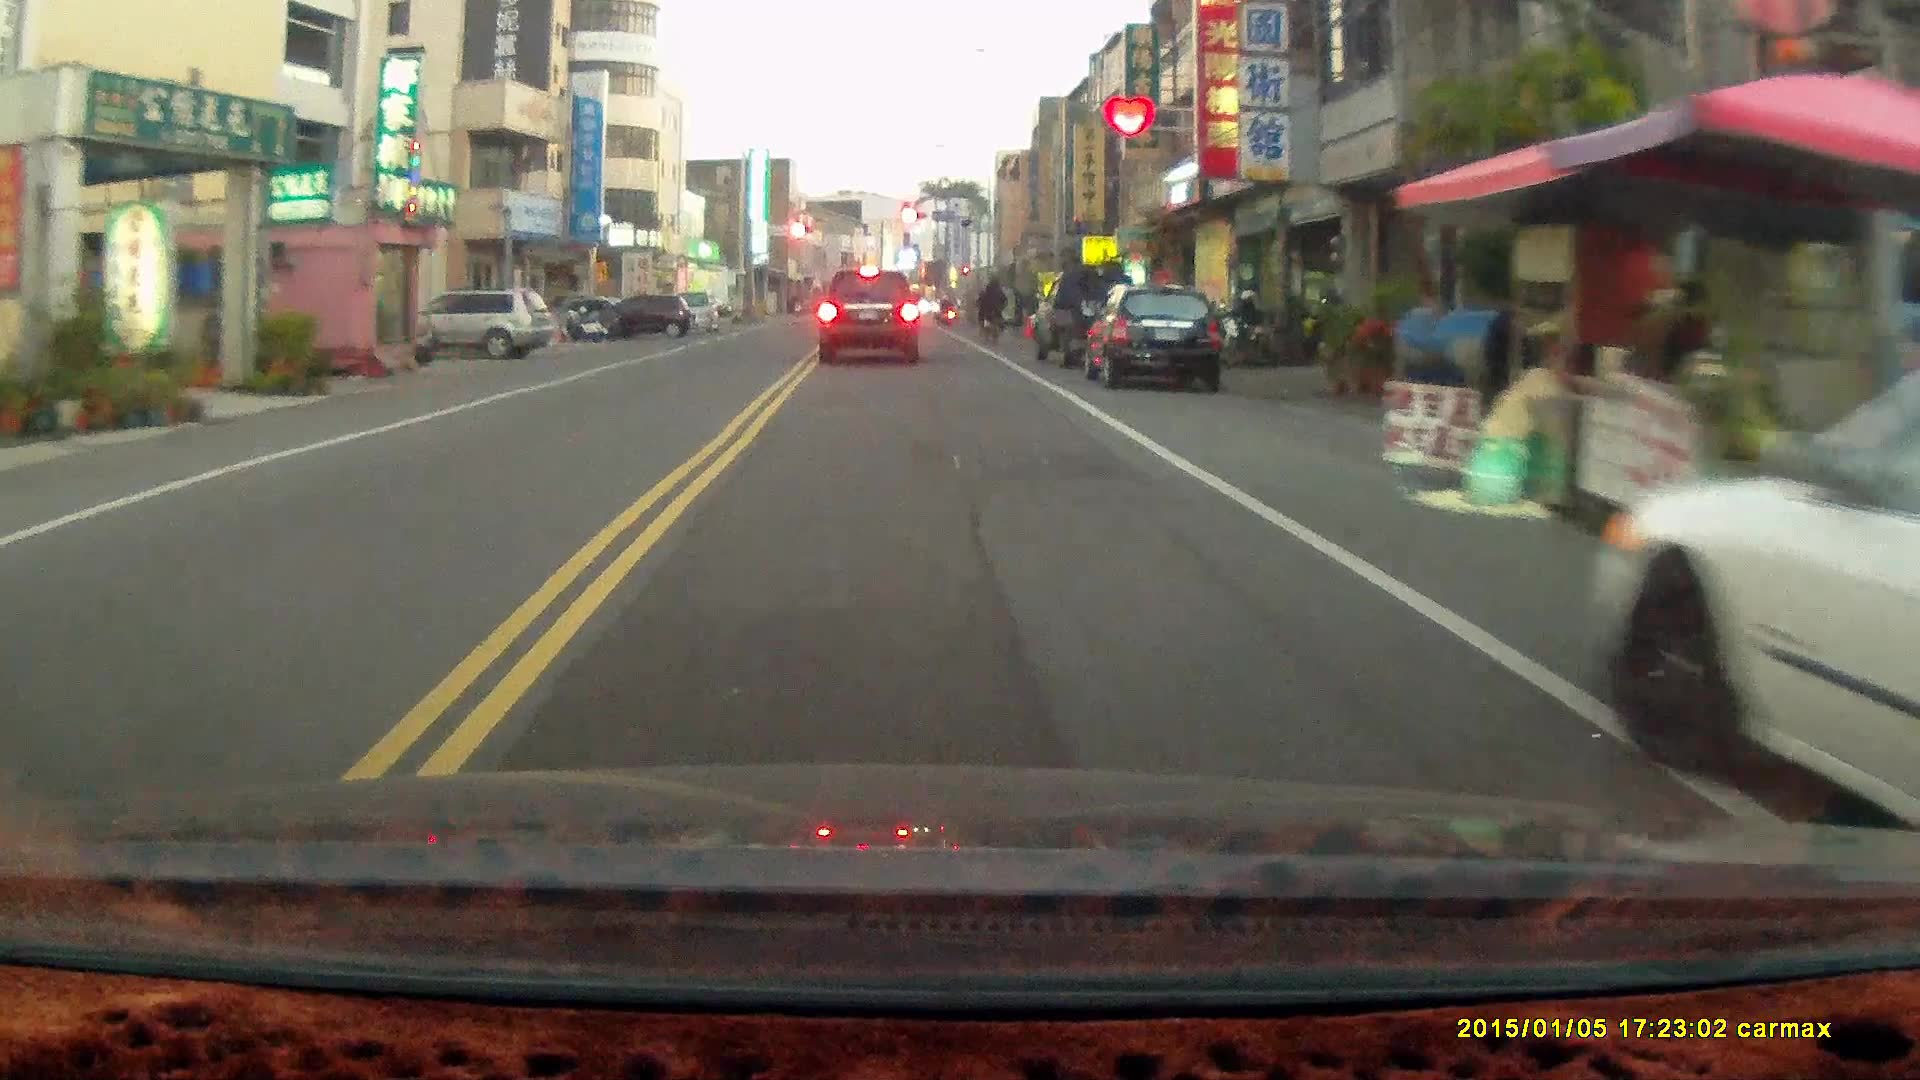rider: (977, 276, 1008, 348)
vehicle: (1600, 301, 1920, 830), (1087, 282, 1230, 394), (378, 289, 555, 363), (816, 266, 923, 366), (579, 293, 696, 338)
